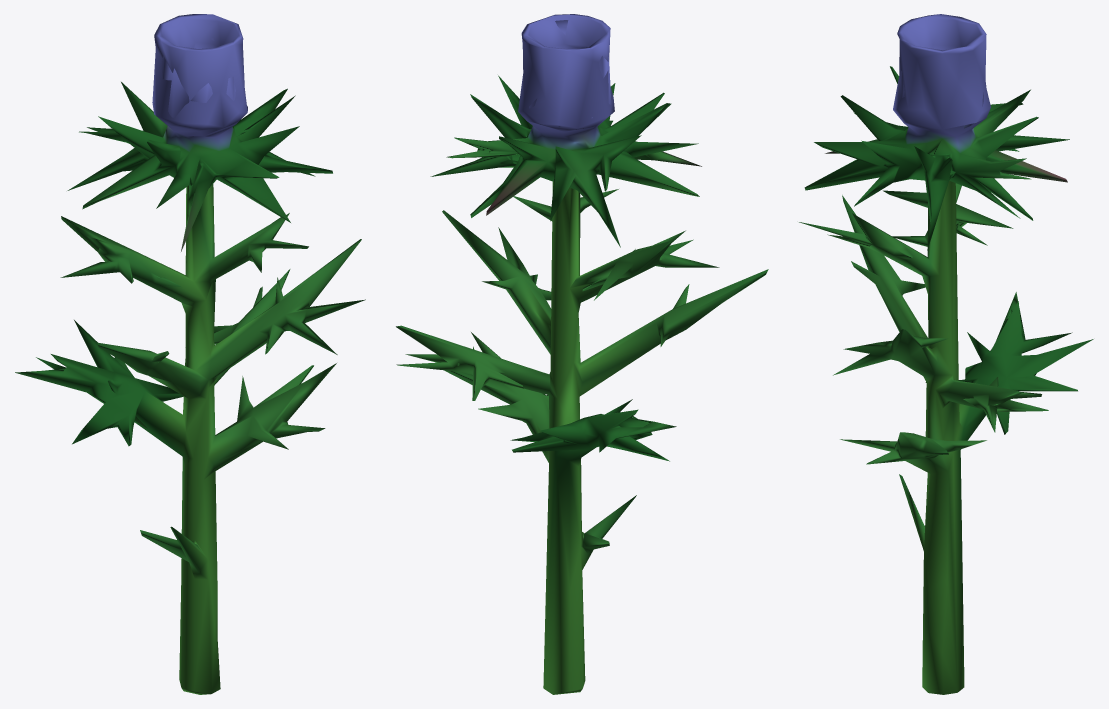
The model's file is gen3d-thistle-plant-lod1.glb.
3 renders of one model, left to right at view 1: azimuth 30°, elevation 25°; view 2: azimuth 150°, elevation 25°; view 3: azimuth 270°, elevation 25°, orthographic.
Parts seen in each view (by area): view 1: part_0; view 2: part_0; view 3: part_0.
Part boxes in pixels (x1=…): part_0: x1=15, y1=14, x2=365, y2=694; part_0: x1=396, y1=14, x2=768, y2=694; part_0: x1=799, y1=14, x2=1093, y2=694.
Size of the model in its own units: 0.4704 by 1 by 0.4118.
